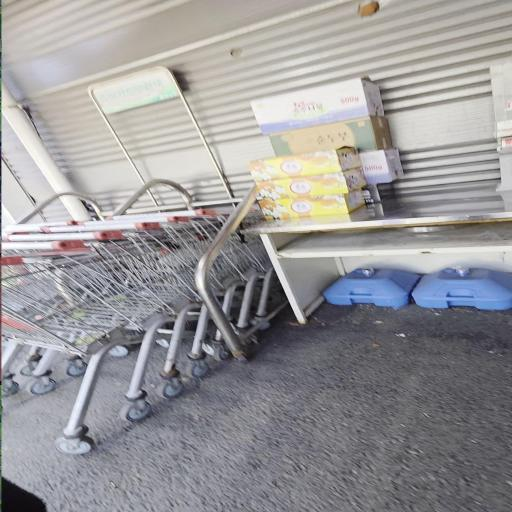combined_cart: (3, 210, 280, 458)
